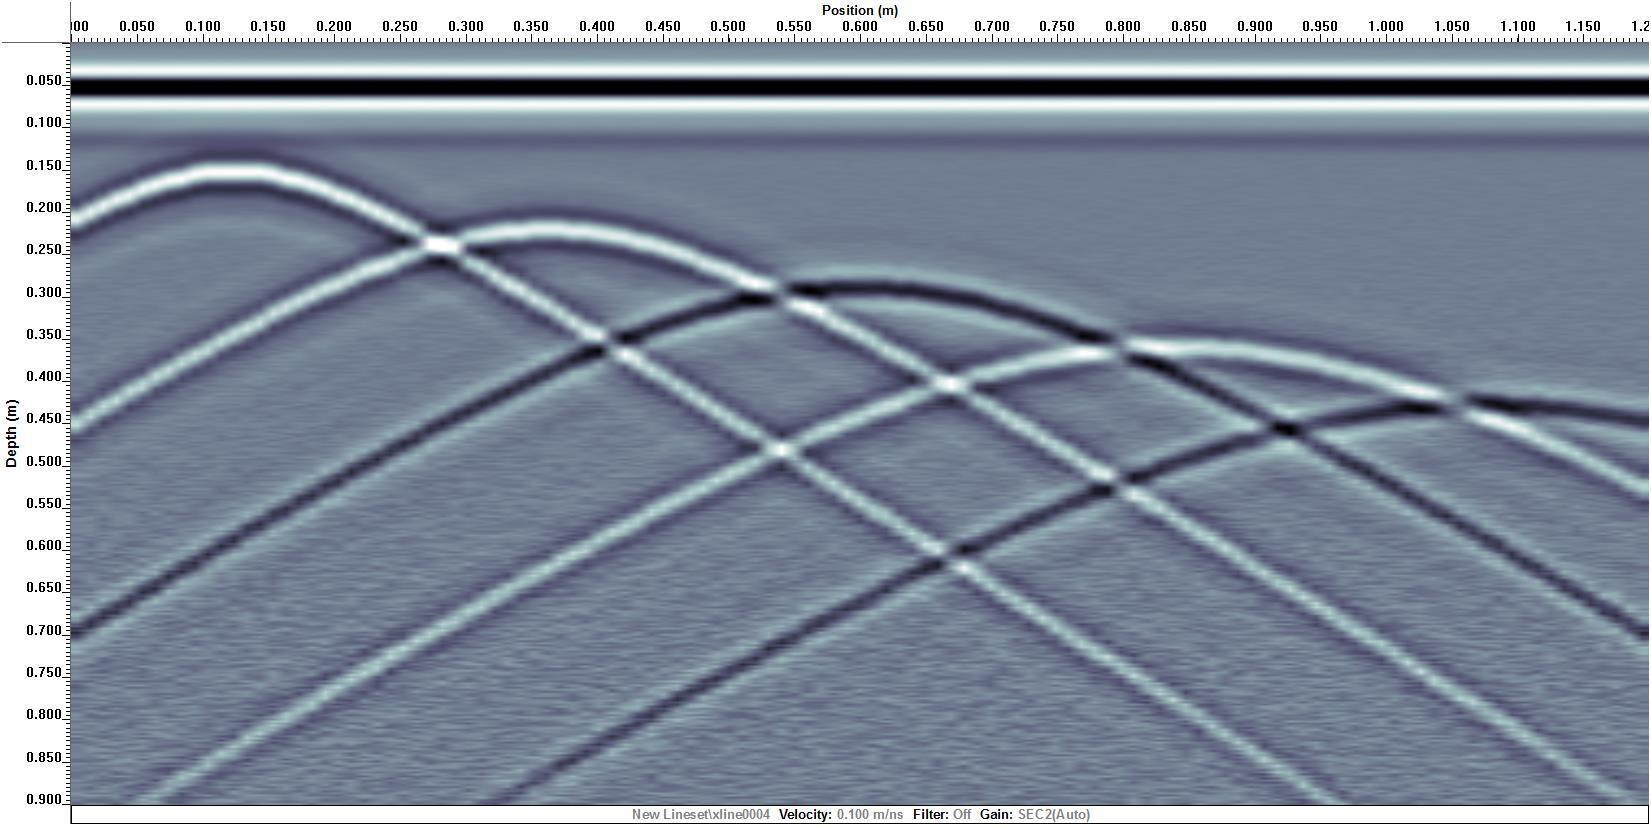hyperbola: (610, 261, 1114, 360), (954, 304, 1437, 407), (65, 142, 436, 250), (370, 203, 776, 300), (1290, 357, 1651, 460)
